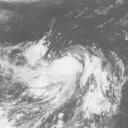cyclone: (23, 41, 115, 109)
